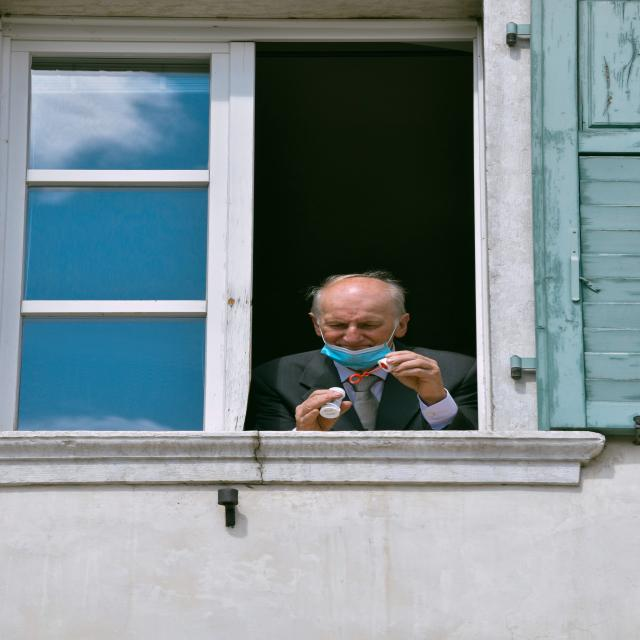adult: (253, 272, 472, 428)
